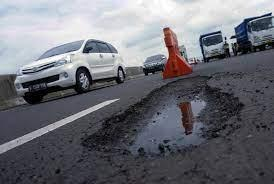Pothole: (96, 66, 247, 170)
